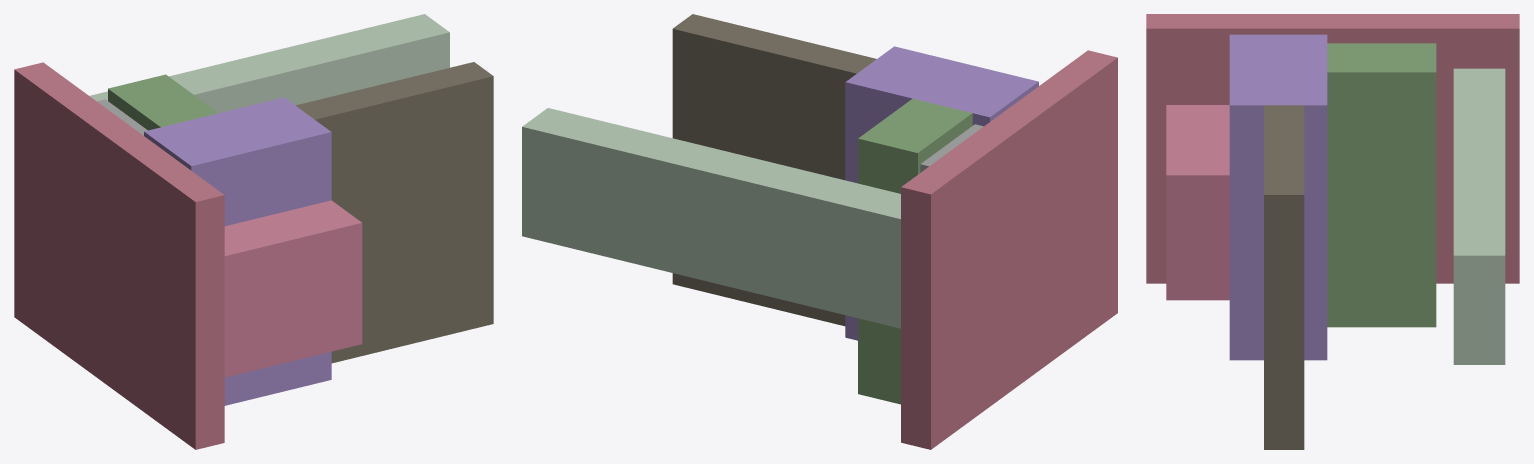
The model's file is 199528_pred.glb.
The picture shows the model from 3 angles, left to right: view 1: azimuth 30°, elevation 25°; view 2: azimuth 150°, elevation 25°; view 3: azimuth 270°, elevation 25°; orthographic projection. The views are drawn at different scales.
Visible parts, largest first — view 1: world; view 2: world; view 3: world.
Part boxes in pixels (bbox=[...]): world: bbox=[14, 14, 493, 449]; world: bbox=[522, 14, 1117, 449]; world: bbox=[1146, 14, 1519, 449].
Bounding box in the file's own units: 8.35 × 4.95 × 6.5.
